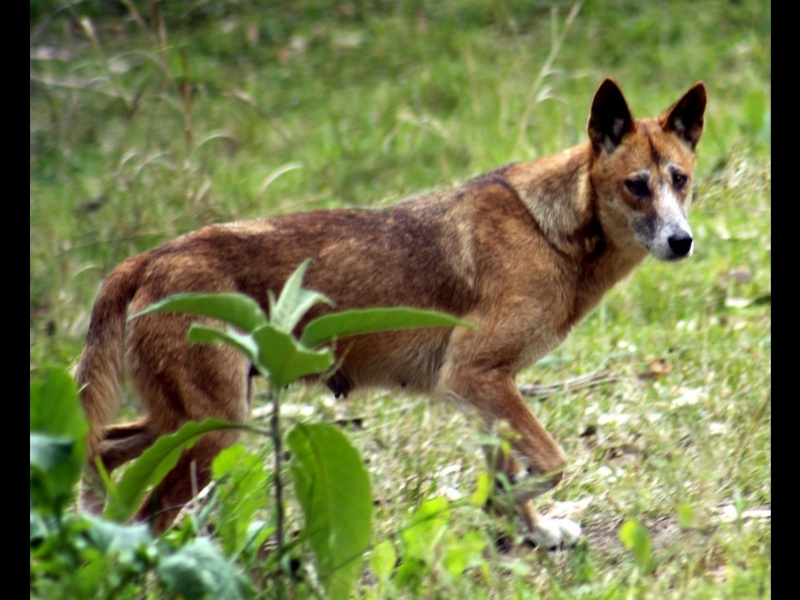dog: (56, 70, 721, 564)
